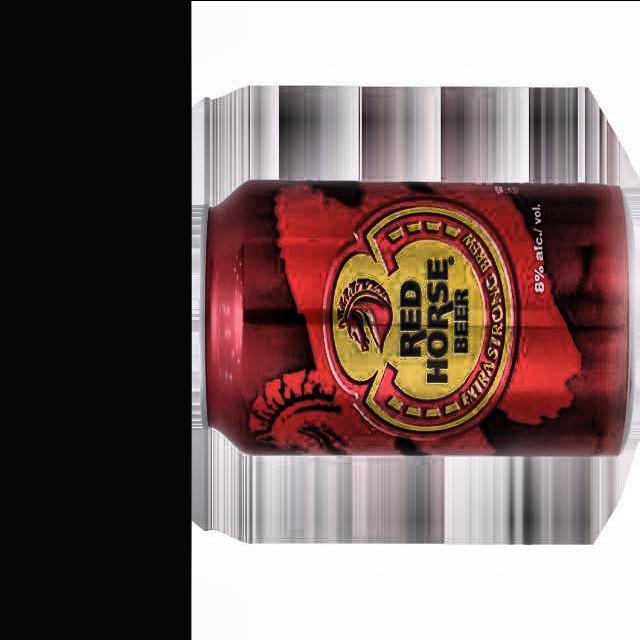Aluminum Can: (196, 175, 639, 461)
